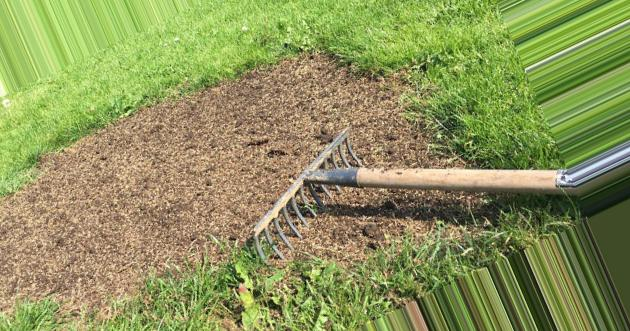patch: (20, 120, 254, 285), (252, 76, 360, 135)
